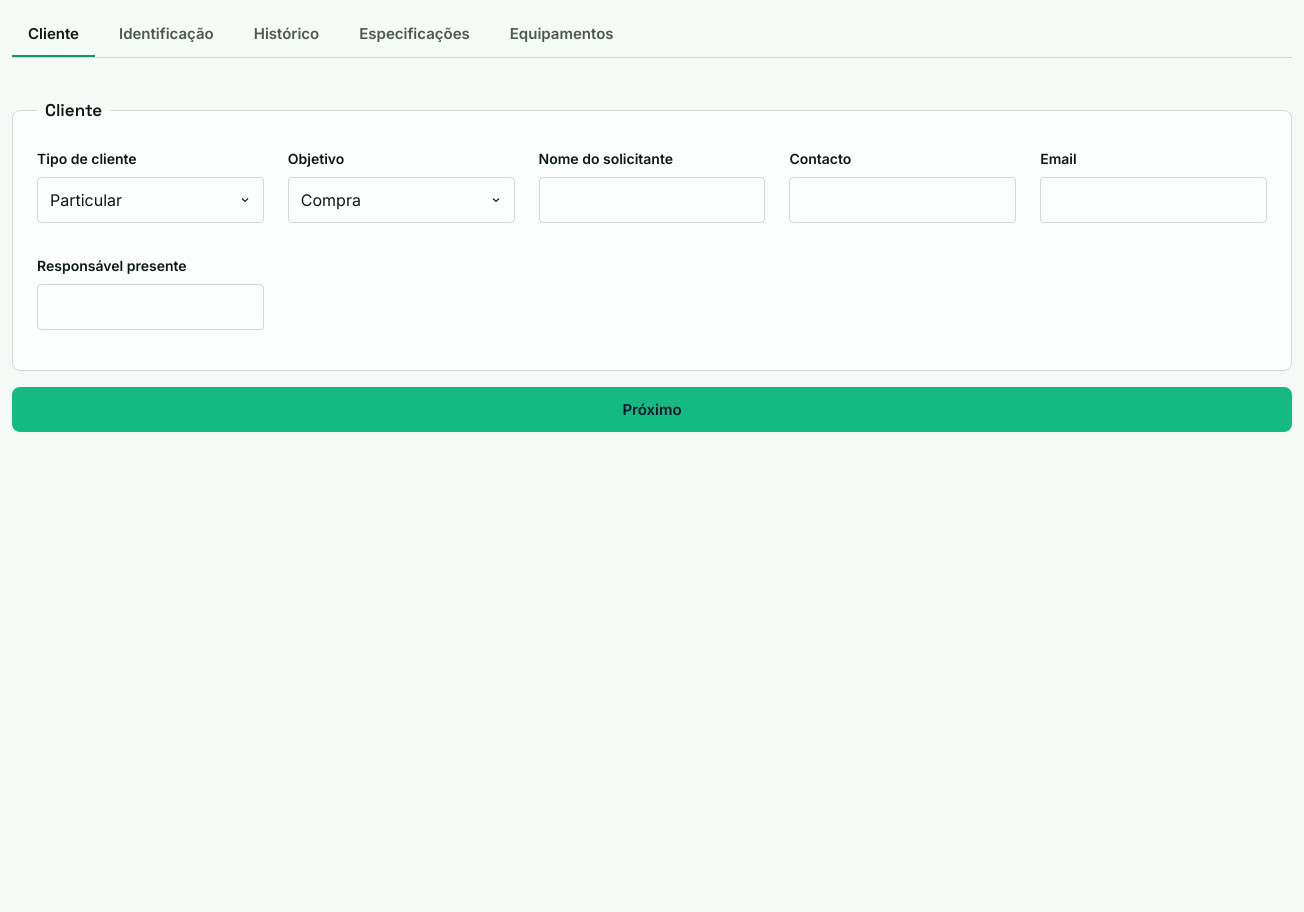
it: NewInspectionForm › shows the Histórico fields, including quilometragem moved from Identificação
The image size is (1304, 912).
Click the tab "Histórico".
click(286, 34)  # box [238,12,335,57]
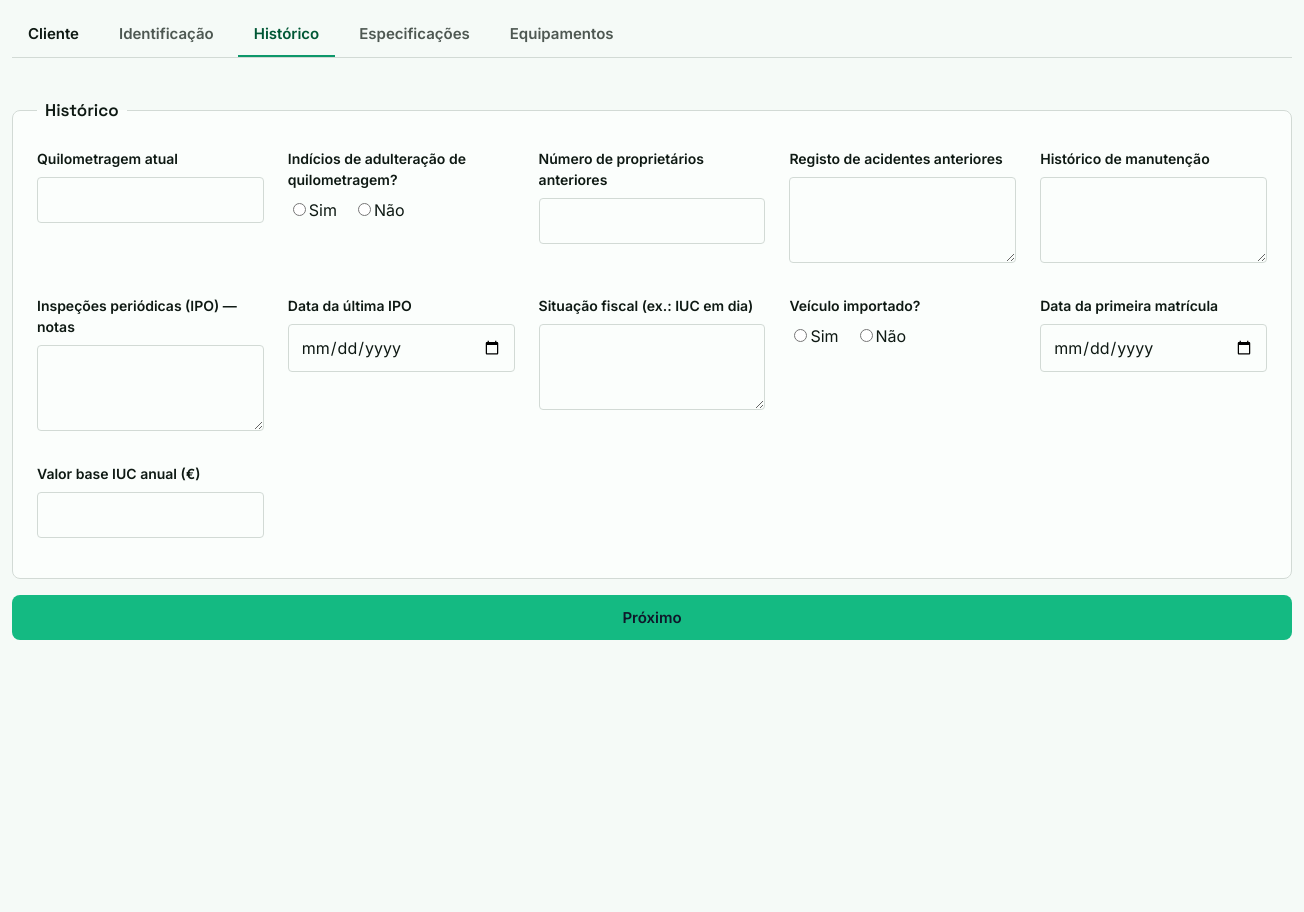
expect the number field labelled "Quilometragem atual" is shown: met, box [37,176,264,222]
expect the text "Indícios de adulteração de quilometragem?" is shown: met, box [288,150,466,188]
expect the number field labelled "Número de proprietários anteriores" is shown: met, box [539,198,765,244]
Click the tab "Identificação".
click(166, 34)  # box [103,12,230,57]
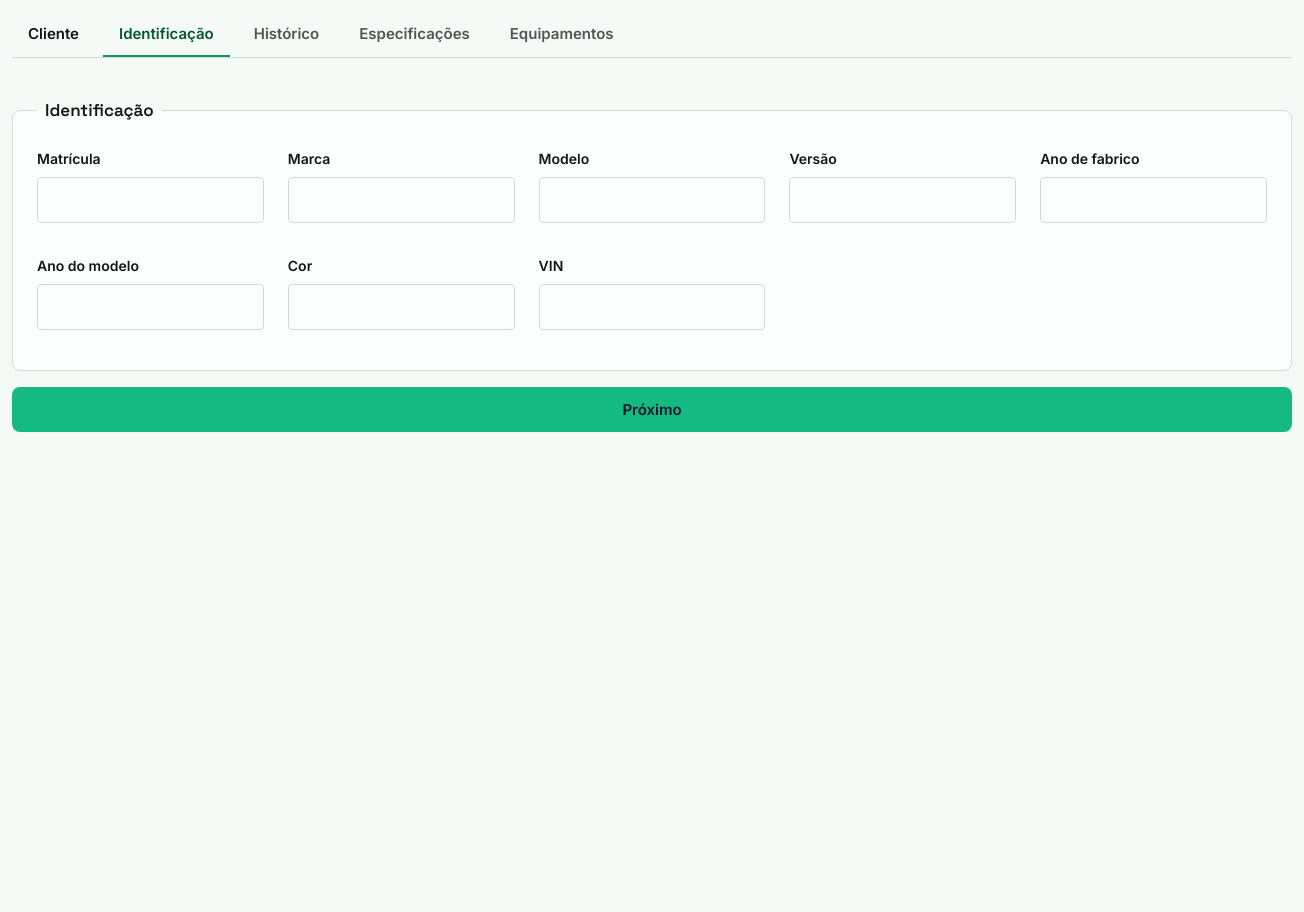
expect the label labelled "Quilometragem" is gone: met
